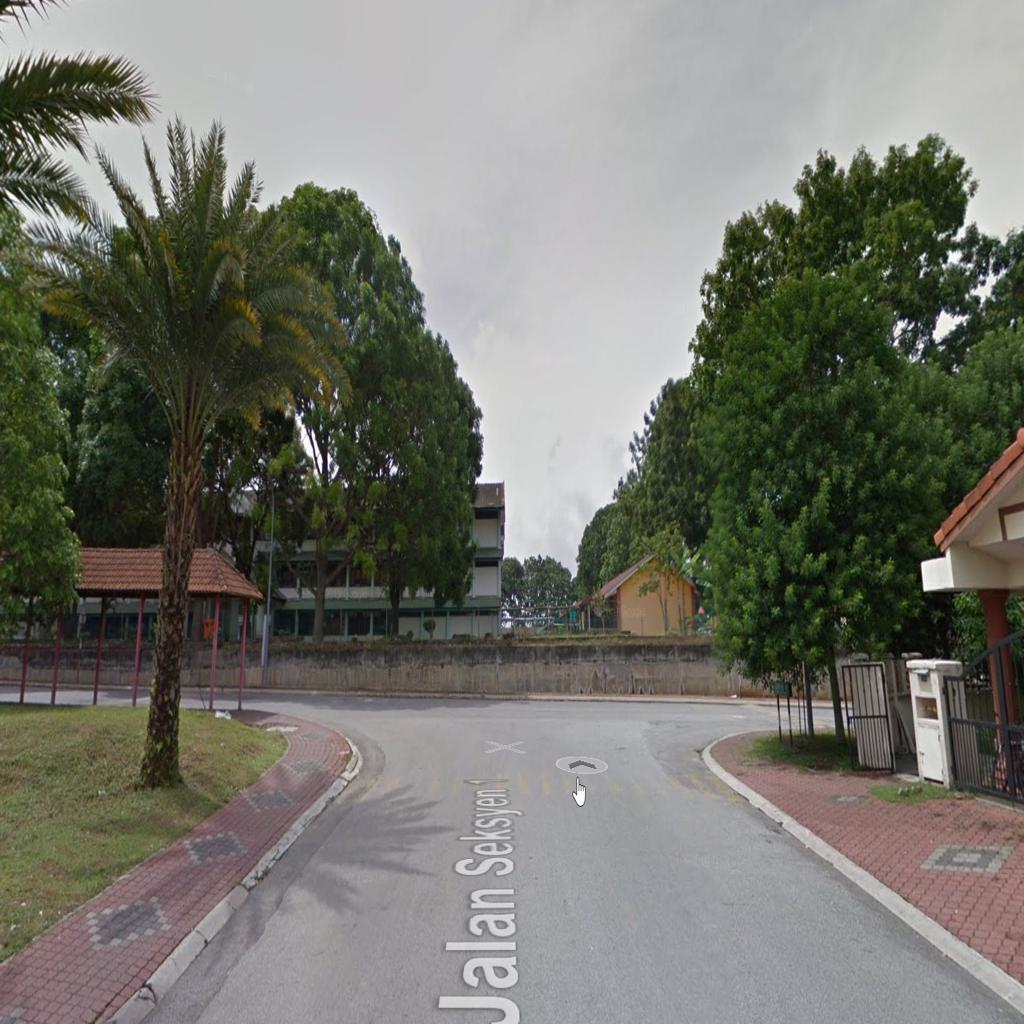Junction: (183, 632, 402, 764), (667, 650, 841, 766)
